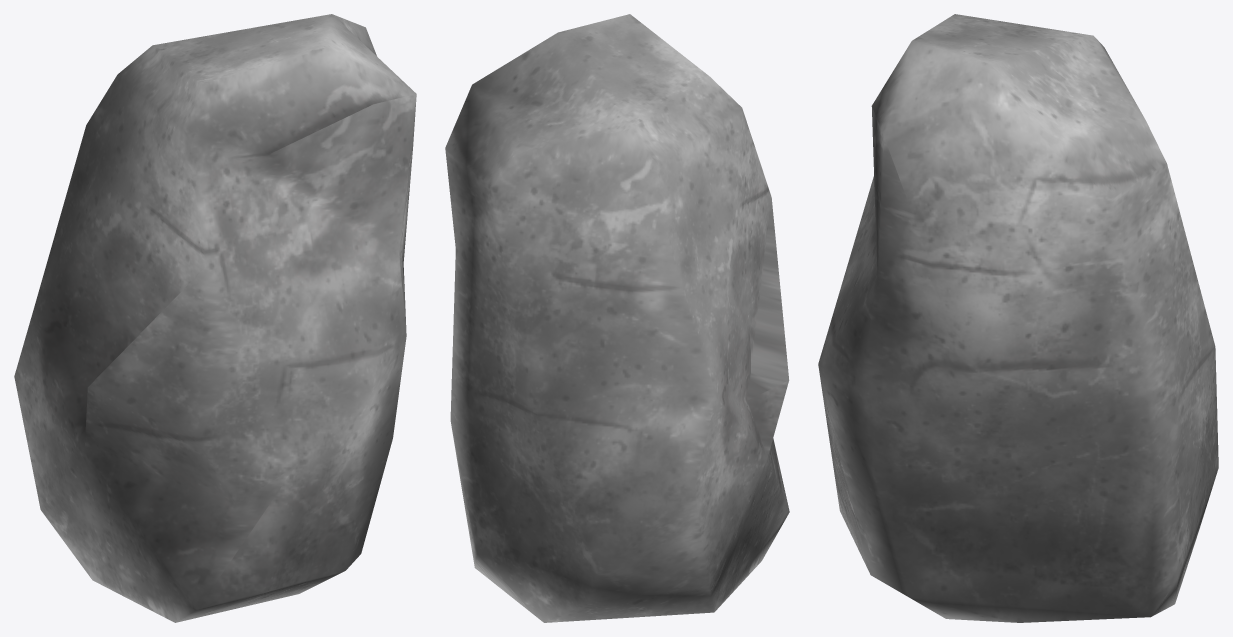
Rendered from Rock5_LOD2.fbx.
The picture shows the model from 3 angles, left to right: view 1: azimuth 30°, elevation 25°; view 2: azimuth 150°, elevation 25°; view 3: azimuth 270°, elevation 25°; orthographic projection. The views are drawn at different scales.
Visible parts, largest first — view 1: Rock5_2; view 2: Rock5_2; view 3: Rock5_2.
Boxes of the visible parts, x1,y1,x2,y2 form: Rock5_2: [14, 14, 416, 622]; Rock5_2: [445, 14, 789, 622]; Rock5_2: [818, 14, 1218, 622].
Bounding box in the file's own units: 1.37 × 2.36 × 1.46.
